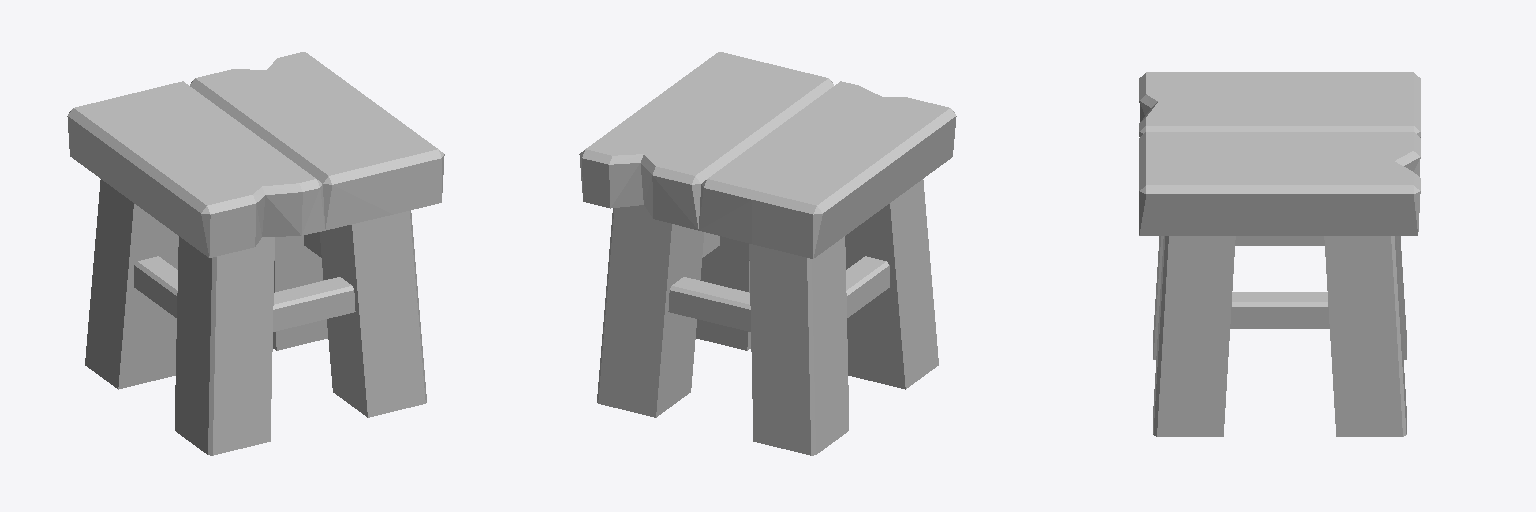
Rendered from table_small.obj.
3 renders of one model, left to right at view 1: azimuth 30°, elevation 25°; view 2: azimuth 150°, elevation 25°; view 3: azimuth 270°, elevation 25°, orthographic.
Parts seen in each view (by area): view 1: table_small; view 2: table_small; view 3: table_small.
Boxes of the visible parts, x1,y1,x2,y2 form: table_small: [67, 52, 444, 455]; table_small: [579, 52, 956, 455]; table_small: [1139, 72, 1420, 436].
Bounding box in the file's own units: 1 × 1 × 1.